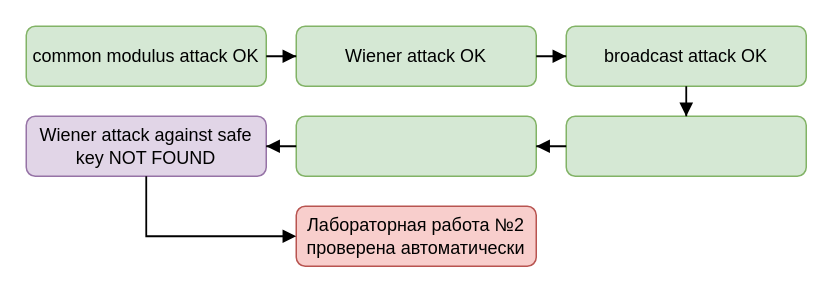
This 833x293 diagram has some shape labels left out. Here are the shapes that lost their labels. From the top down, the centre of each, then its label:
At (x=415, y=145): "safe keygen OK".
At (x=685, y=145): "small-order attack OK".
